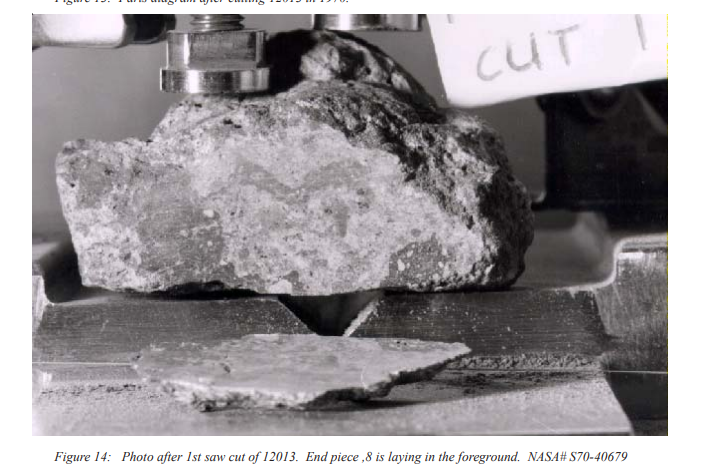Breccia: (49, 10, 593, 420)
